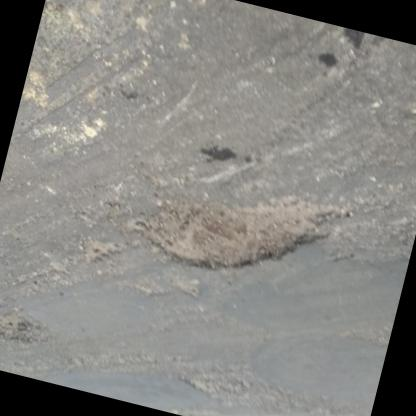pothole: (128, 158, 348, 304), (180, 368, 252, 406), (0, 300, 49, 351)
